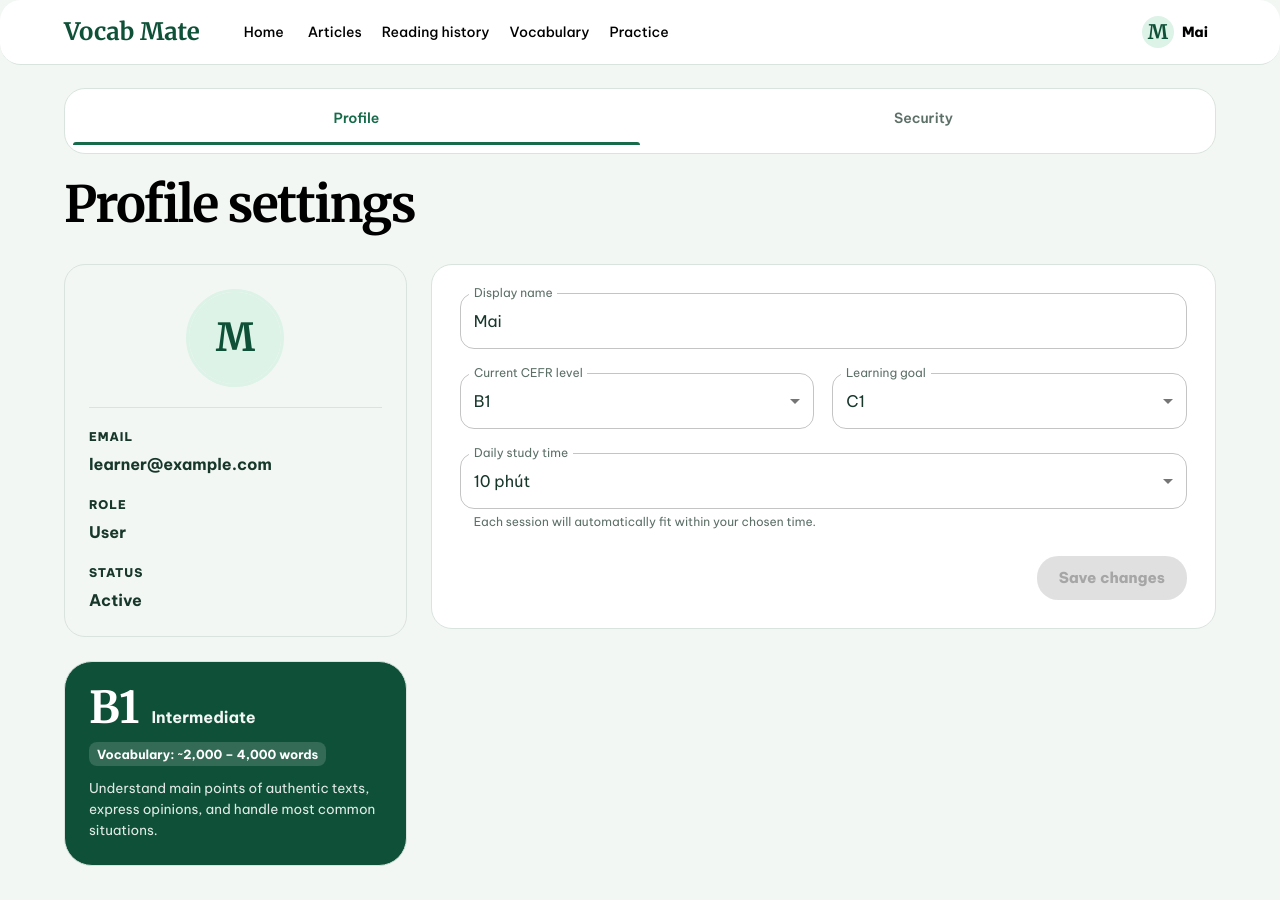
Scenario: Profile settings UI › tracks dirty state and protects dirty input on browser unload
Expected: the button "Save changes" is disabled, 1037,556 -> 1187,600
Type " Nguyen" into the field labelled "Display name" at (823, 321), box 460,293 -> 1187,349
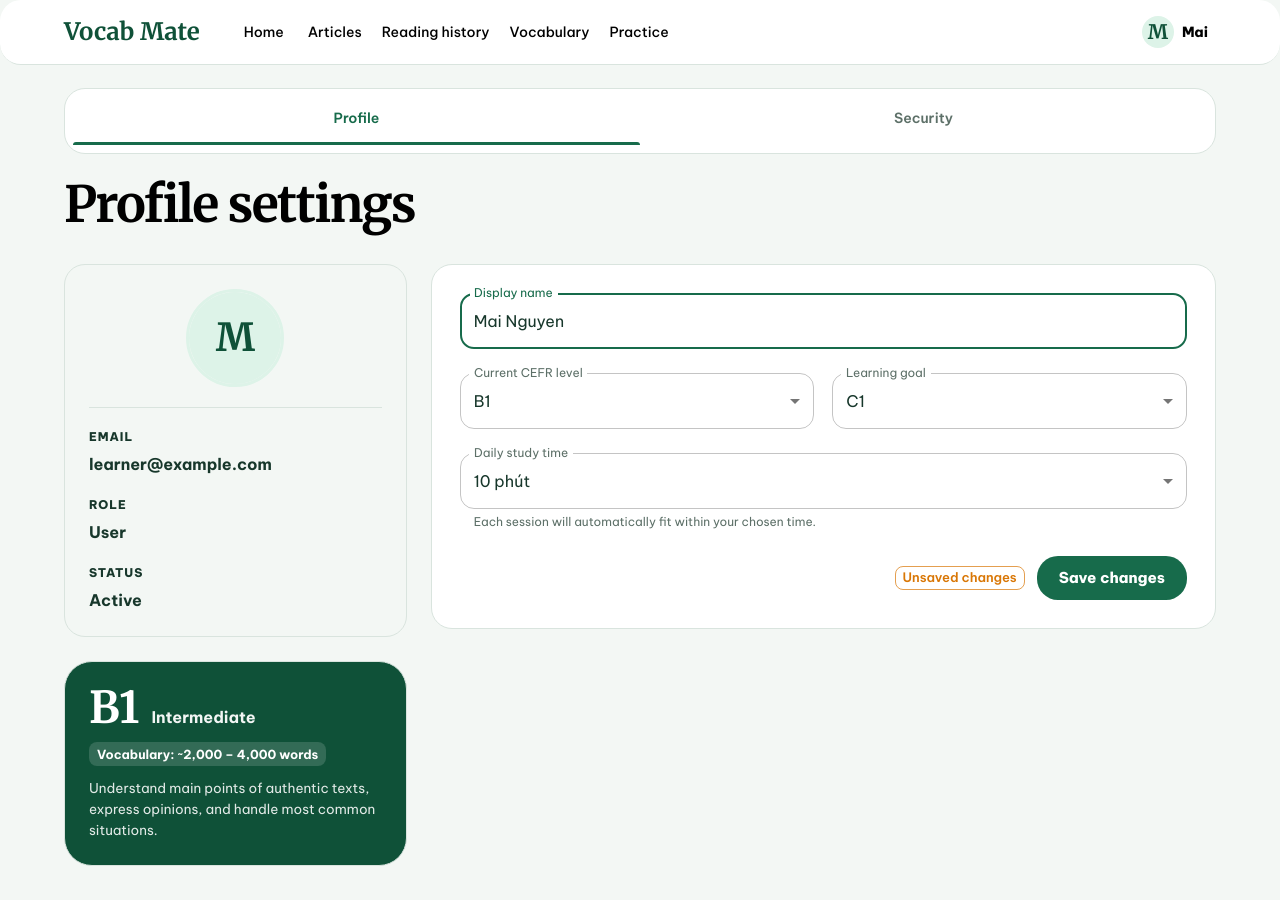
Expected: the button "Save changes" is enabled, 1037,556 -> 1187,600
Expected: the text "Unsaved changes" is shown, 896,568 -> 1024,588
